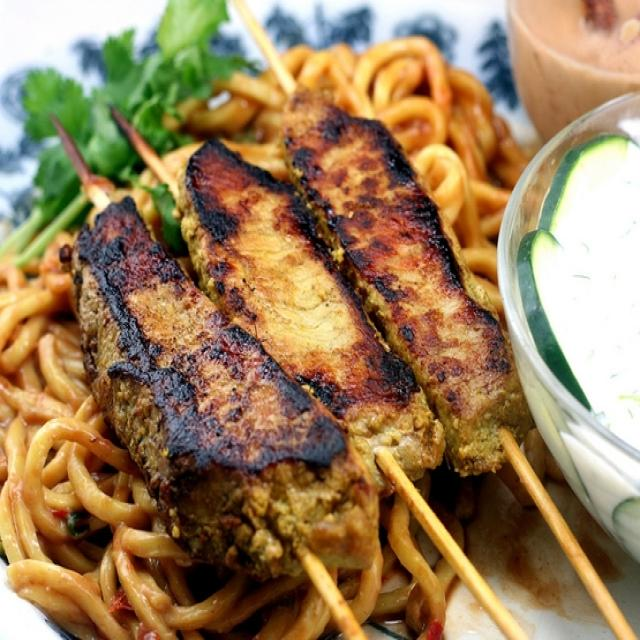牛肉菜式: (9, 26, 594, 598)
